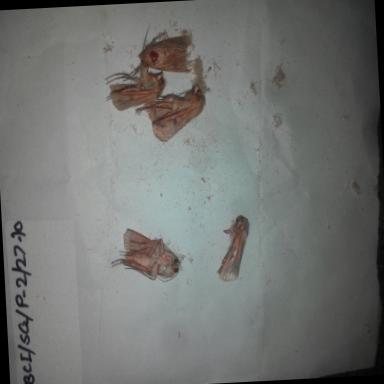abw: (106, 221, 186, 287), (132, 84, 212, 149), (128, 20, 195, 80), (100, 65, 175, 118), (211, 212, 255, 284)
